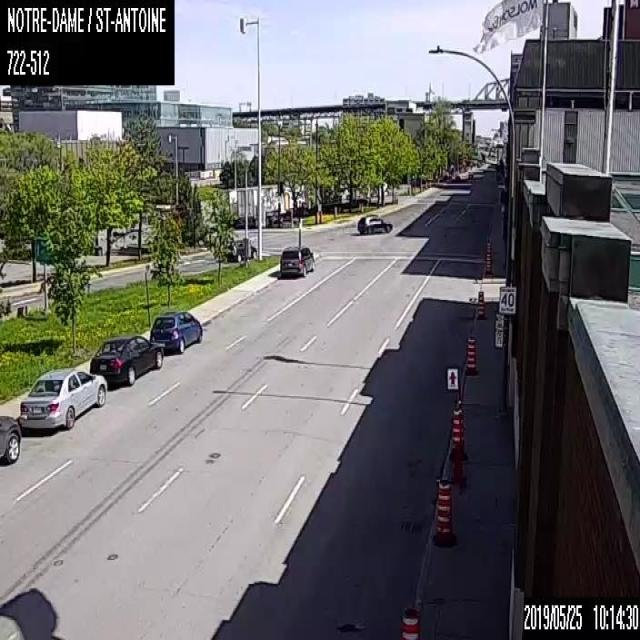construction: (429, 476, 456, 545), (448, 400, 469, 459), (398, 605, 422, 639), (463, 333, 478, 372), (476, 286, 486, 318), (483, 239, 492, 273)
vehicle: (19, 366, 106, 432), (89, 333, 163, 384), (148, 310, 202, 352), (279, 243, 315, 276), (0, 412, 20, 464), (226, 236, 256, 263), (356, 213, 392, 234)
